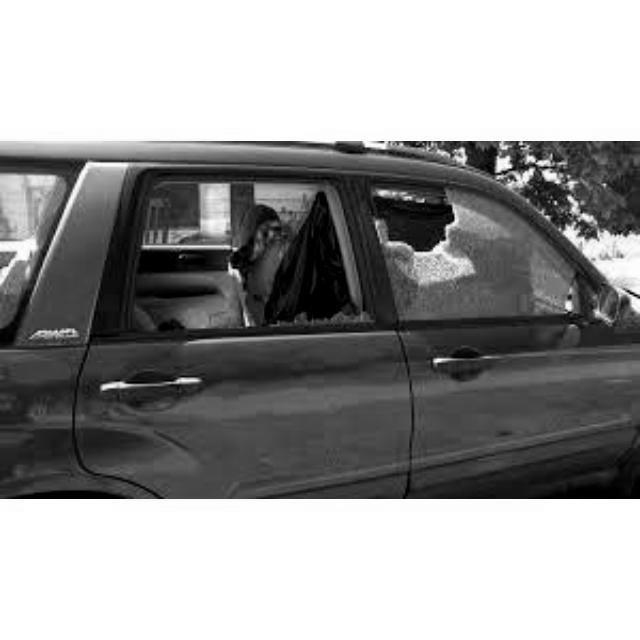doorouter-dent: (103, 163, 376, 363), (399, 201, 571, 397)
